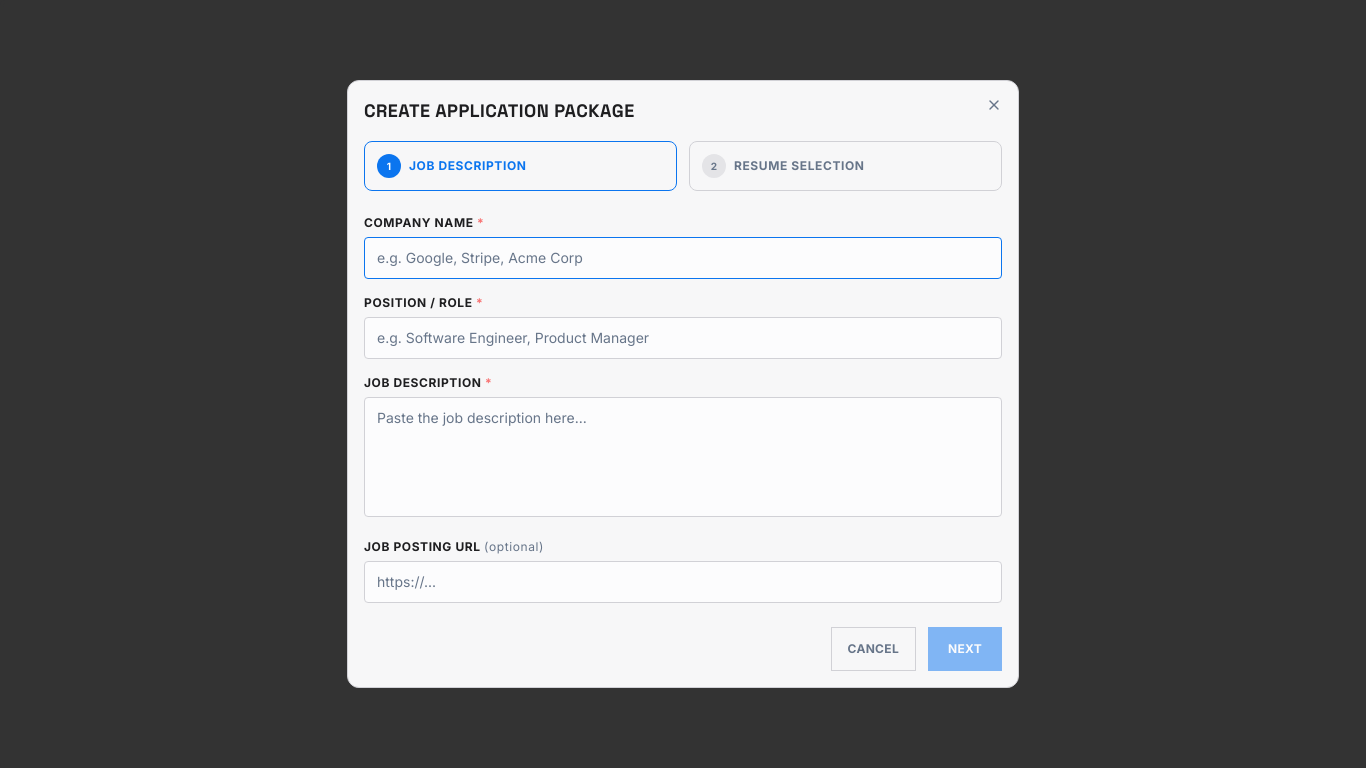
Test: PackageWizard — resume step › shows the resume list on the resume step
Type "Acme Corp" into the field with placeholder "e.g. Google, Stripe, Acme Corp" at (683, 258), box x1=364 y1=237 x2=1002 y2=279
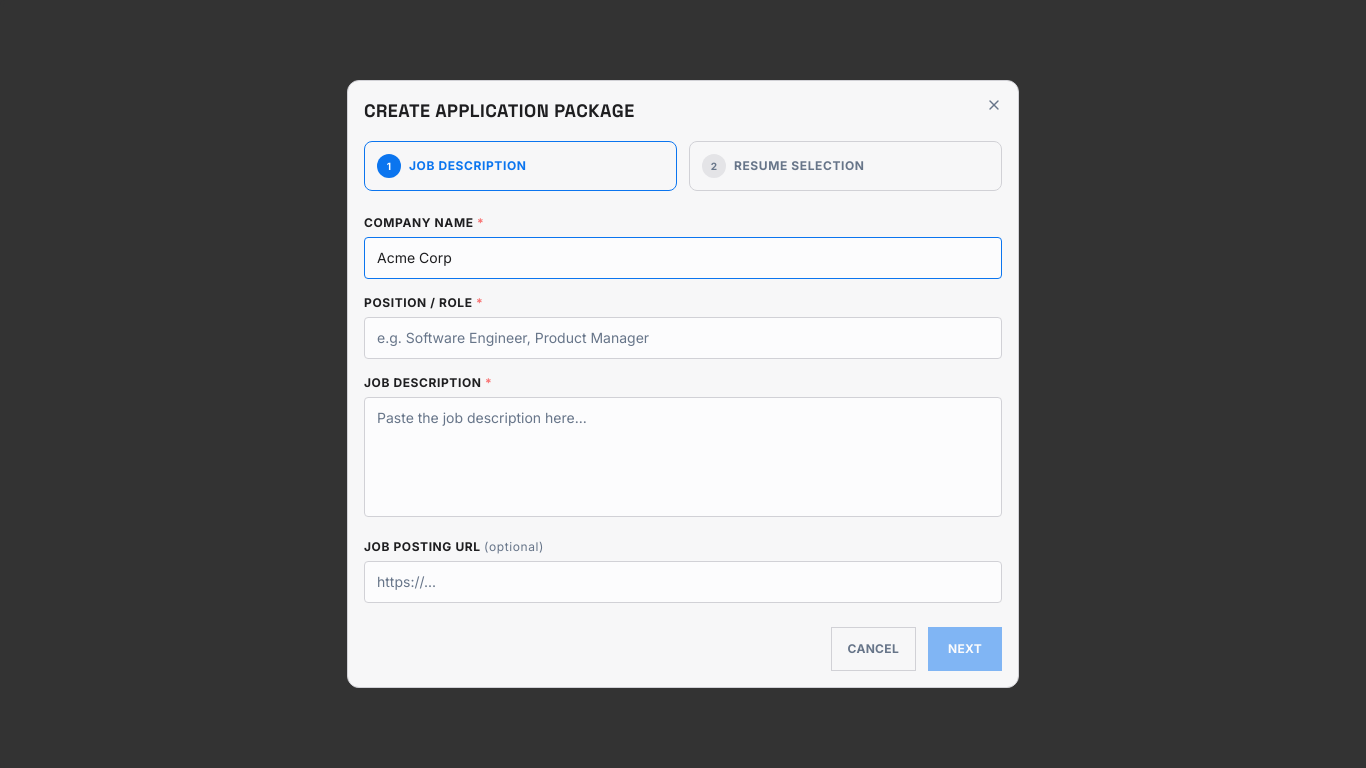
Type "Software Engineer" into the field with placeholder "e.g. Software Engineer, Product Manager" at (683, 338), box x1=364 y1=317 x2=1002 y2=359
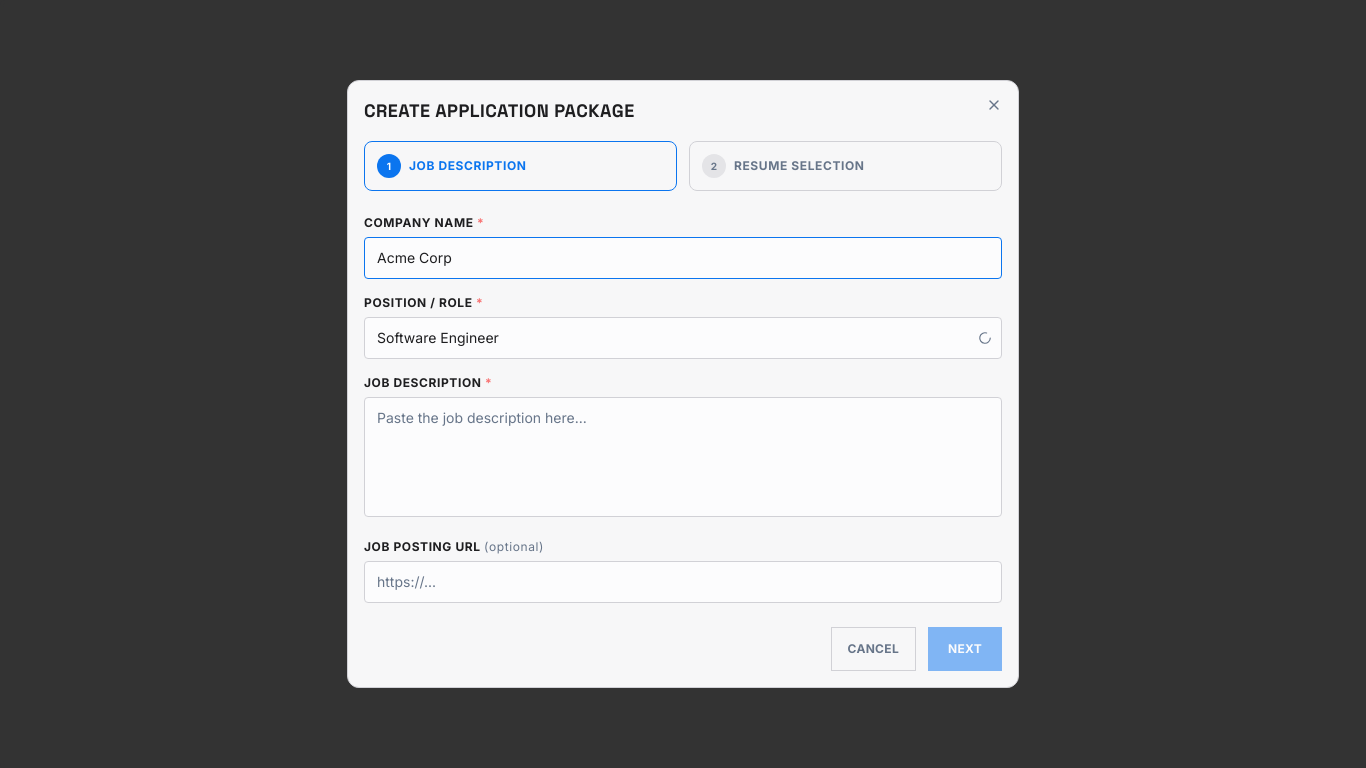
Type "We are looking for a talented software engineer to join our team." into the text box with placeholder "Paste the job description here..." at (683, 457), box x1=364 y1=397 x2=1002 y2=517
Wait 1000 ms
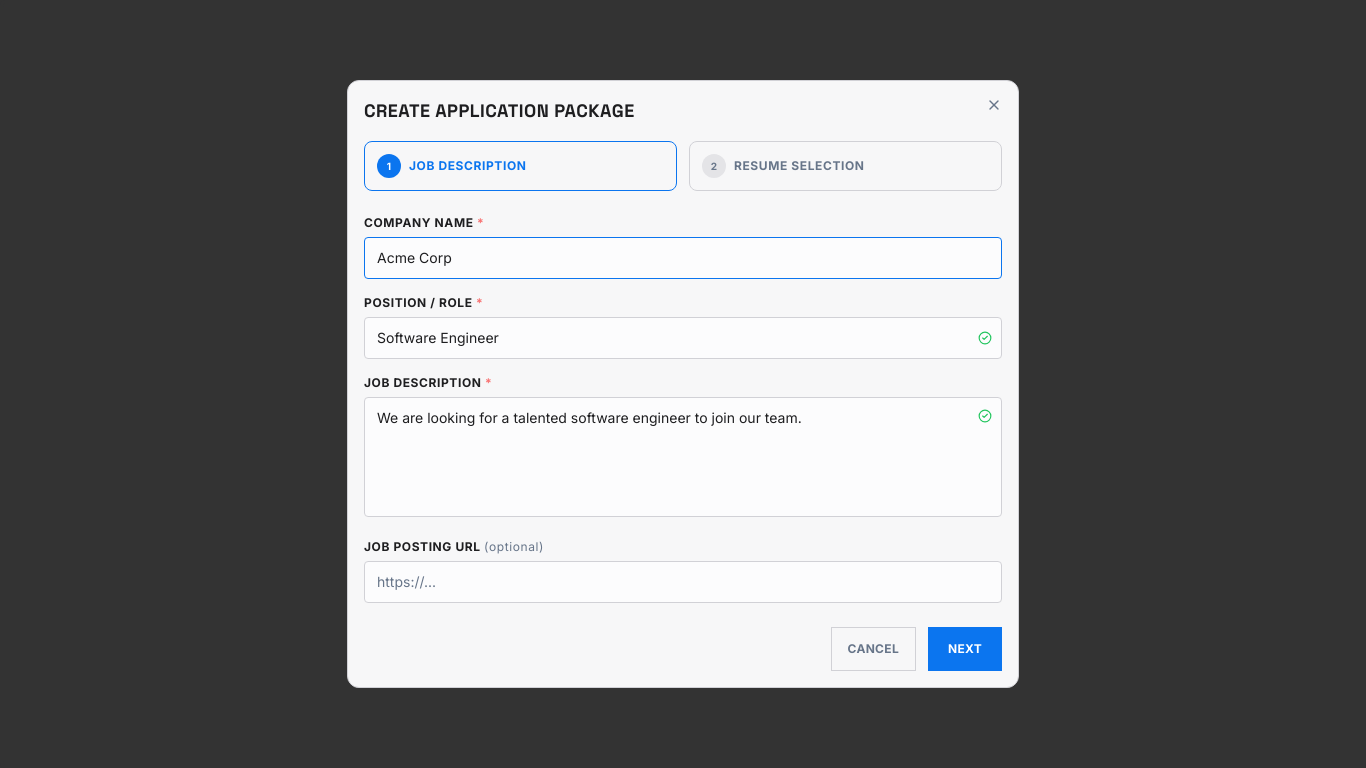
Now the button "Next" is enabled
Click the button "Next" at (965, 649), box x1=928 y1=627 x2=1002 y2=671
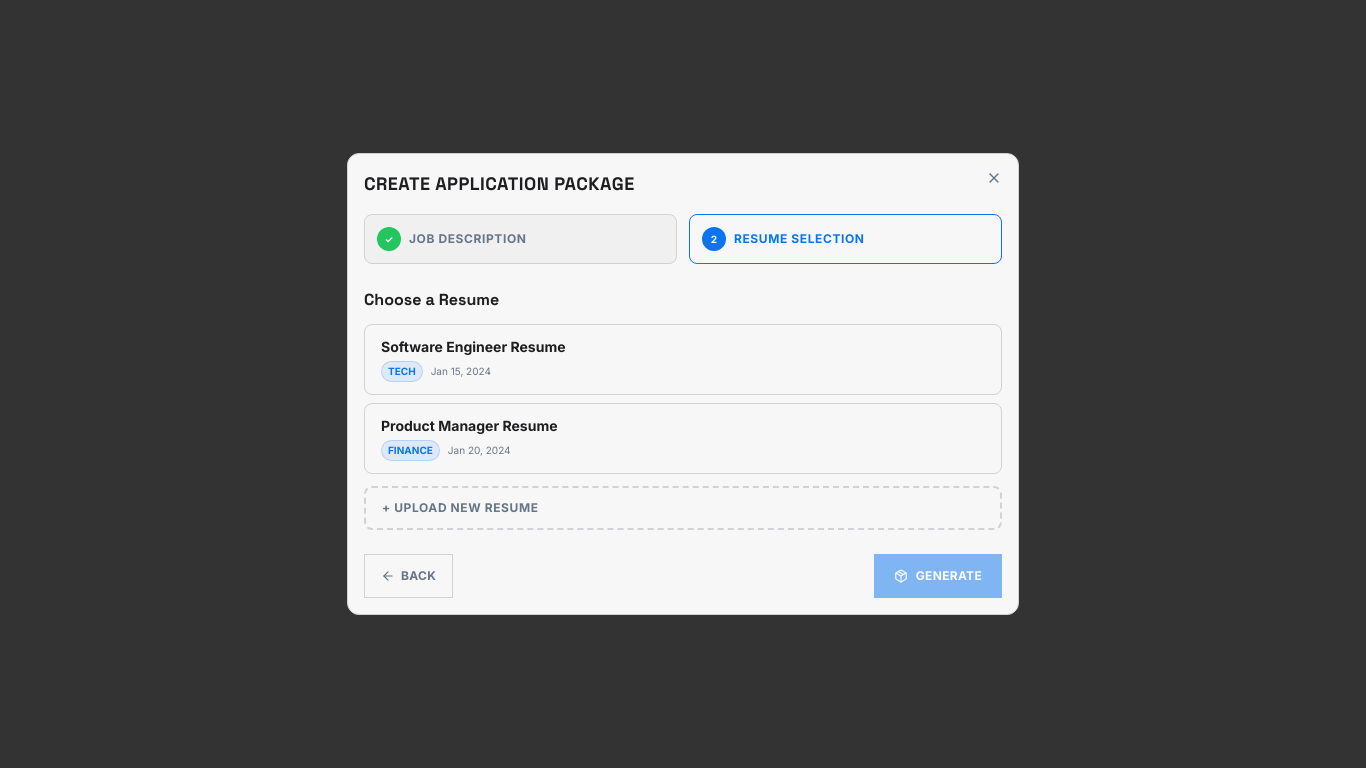
Now the heading "Choose a Resume" is shown, box x1=364 y1=289 x2=499 y2=310
Now the text "Software Engineer Resume" is shown, box x1=381 y1=338 x2=566 y2=355
Now the text "Product Manager Resume" is shown, box x1=381 y1=417 x2=558 y2=434
